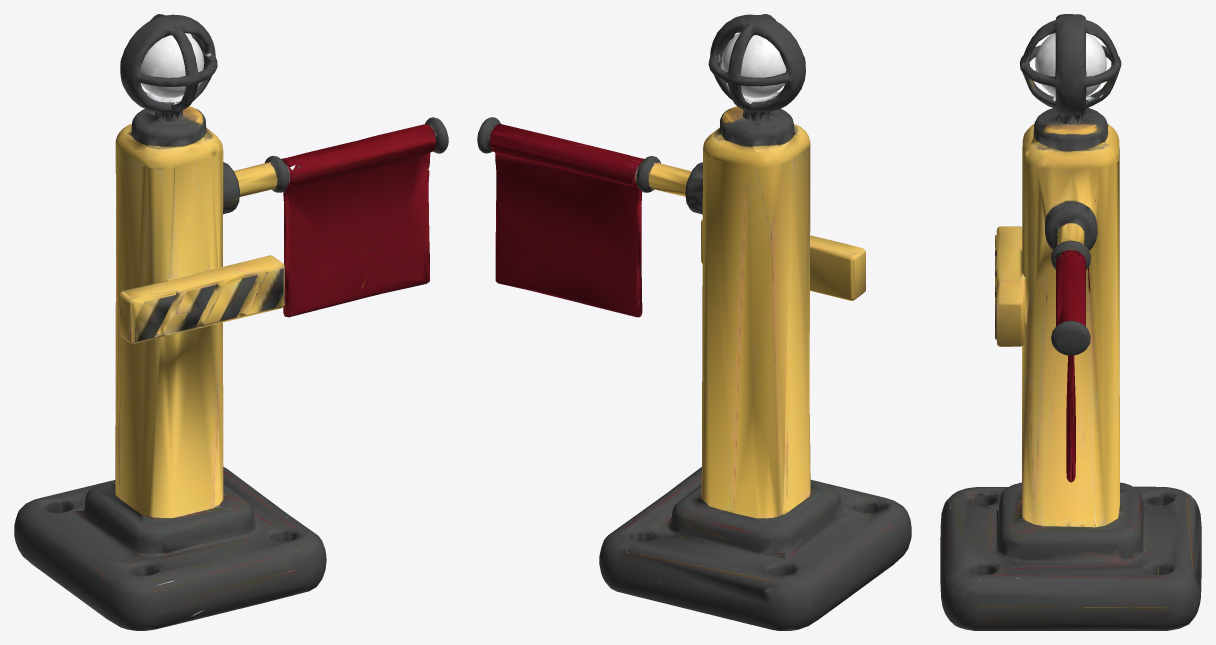
The model's file is checkpoint_v2.glb.
3 views of the same model, side by side, from view 1: azimuth 30°, elevation 25°; view 2: azimuth 150°, elevation 25°; view 3: azimuth 270°, elevation 25° (orthographic). The views are drawn at different scales.
Visible parts, largest first — view 1: body, cloth, lamp; view 2: body, cloth, lamp; view 3: body, lamp, cloth.
Boxes of the visible parts, x1,y1,x2,y2 form: body: (14, 106, 326, 630); cloth: (284, 117, 448, 316); lamp: (120, 14, 217, 120); body: (599, 106, 911, 630); cloth: (477, 117, 640, 316); lamp: (708, 14, 805, 120); body: (940, 108, 1201, 630); lamp: (1020, 14, 1121, 123); cloth: (1051, 250, 1090, 482).
Size of the model in its own units: 1.95 by 2.7 by 1.14.
Materials: 1 (1 with a texture image).
